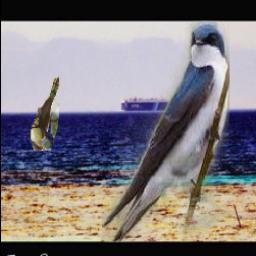Cuckoo: (31, 76, 59, 151)
Swallow: (103, 20, 231, 242)
